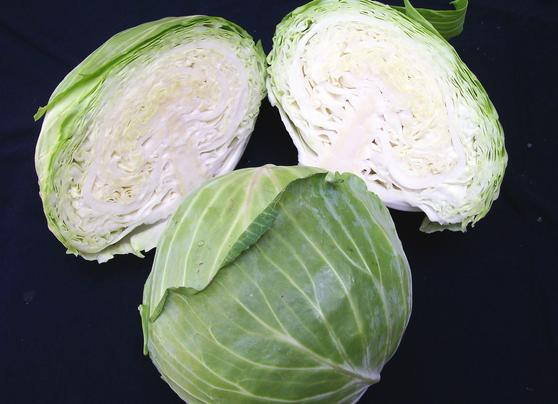cabbage: (127, 166, 425, 404)
